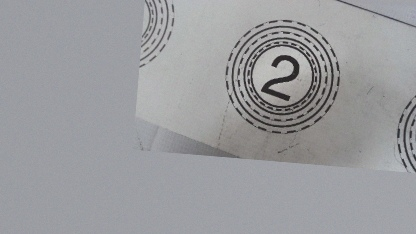2r: (219, 14, 345, 140)
